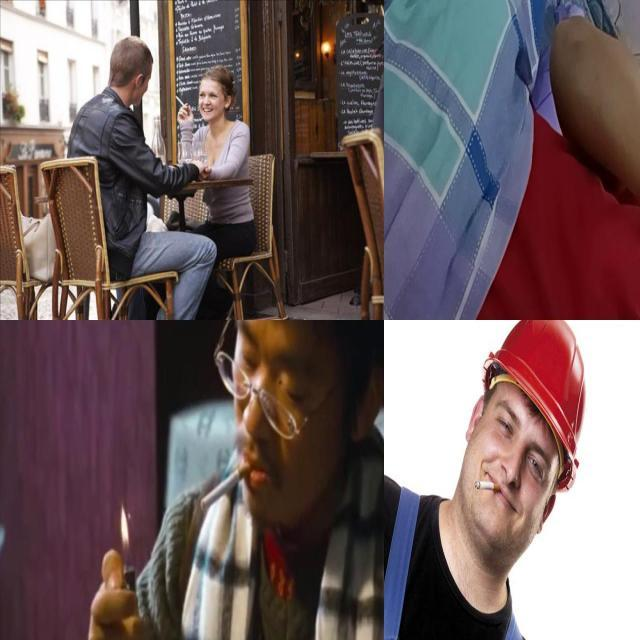smoking: (198, 462, 252, 512), (472, 474, 500, 496), (174, 94, 186, 108)
